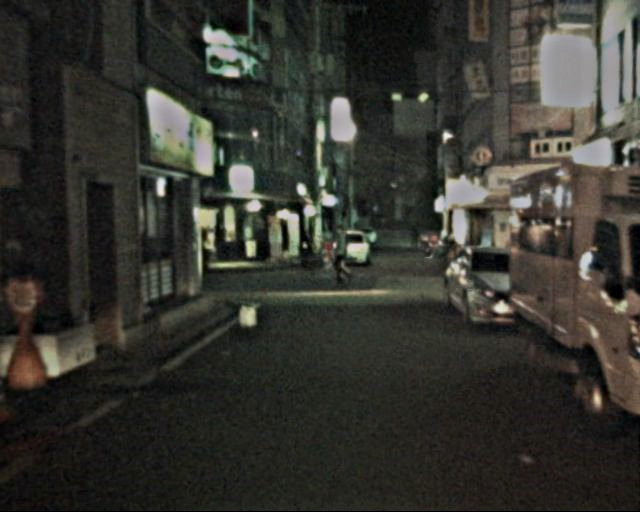person: (326, 225, 354, 290)
